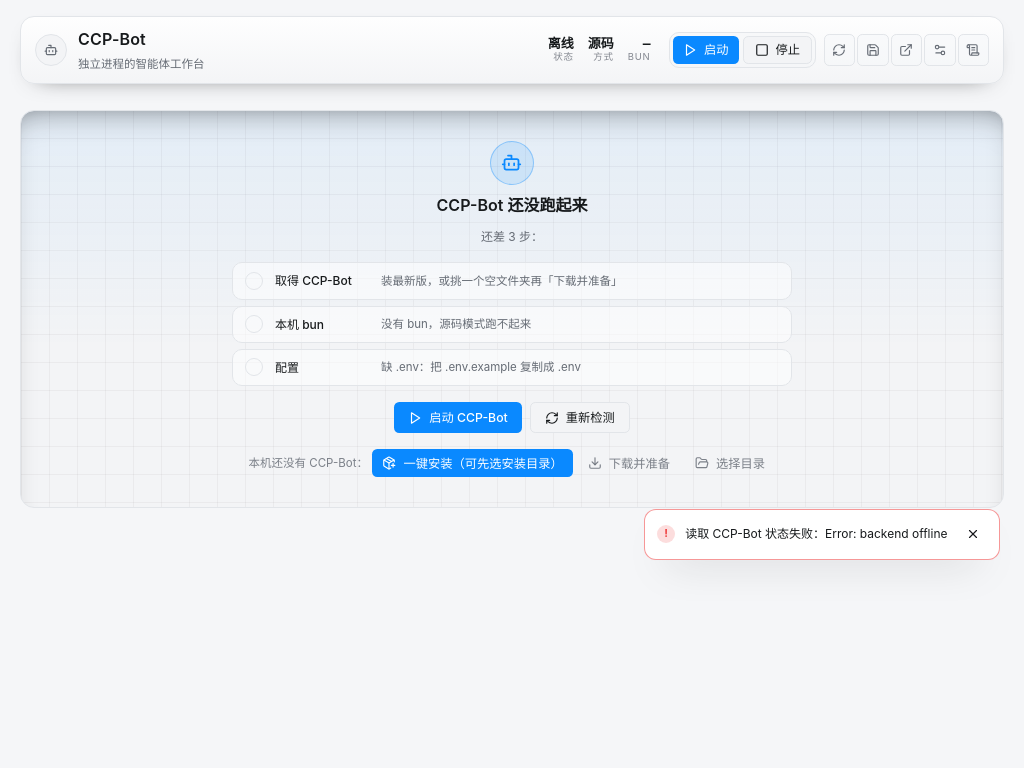
it: CCP-Bot 界面 › 后端报错不静默：原文进提示，且可以关掉
Expected: the text "读取 CCP-Bot 状态失败：Error: backend offline" is shown, x1=685 y1=525 x2=948 y2=543
Click the button named "关闭提示" at (973, 534), box x1=958 y1=518 x2=989 y2=550
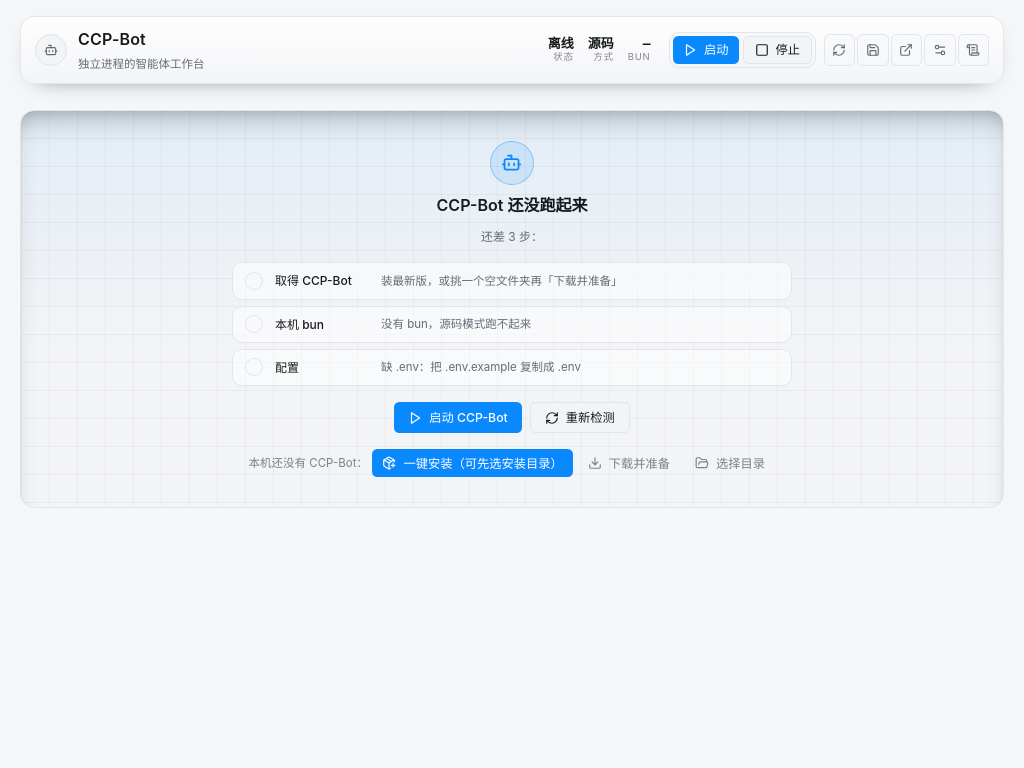
Expected: the message "! 读取 CCP-Bot 状态失败：Error: backend offline" is gone
